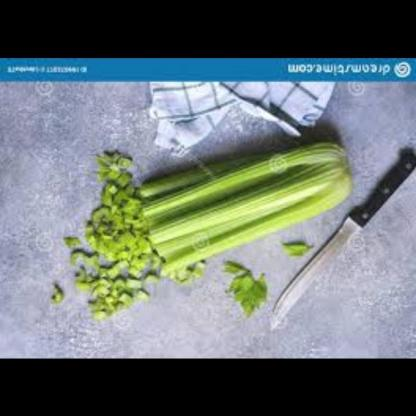celery: (135, 134, 363, 279), (48, 144, 159, 334), (219, 233, 312, 316), (162, 249, 214, 290)
